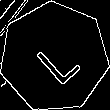L_NW: (26, 28, 83, 87)
